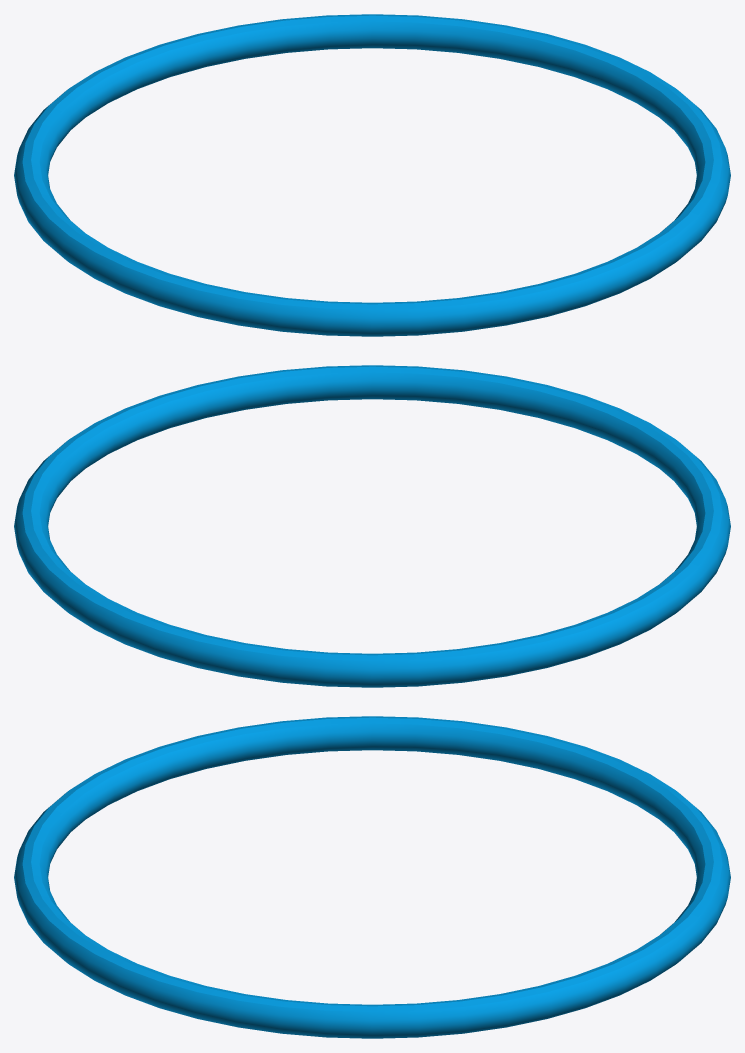
The model's file is JustHulaHoop.fbx.
The picture shows the model from 3 angles, top to bottom: view 1: azimuth 30°, elevation 25°; view 2: azimuth 150°, elevation 25°; view 3: azimuth 270°, elevation 25°; orthographic projection.
Visible parts, largest first — view 1: Torus; view 2: Torus; view 3: Torus.
Boxes of the visible parts, left/top/right/bottom form: Torus: left=14, top=14, right=730, bottom=336; Torus: left=14, top=365, right=730, bottom=687; Torus: left=14, top=716, right=730, bottom=1038.
Size of the model in its own units: 210 by 10 by 210.
